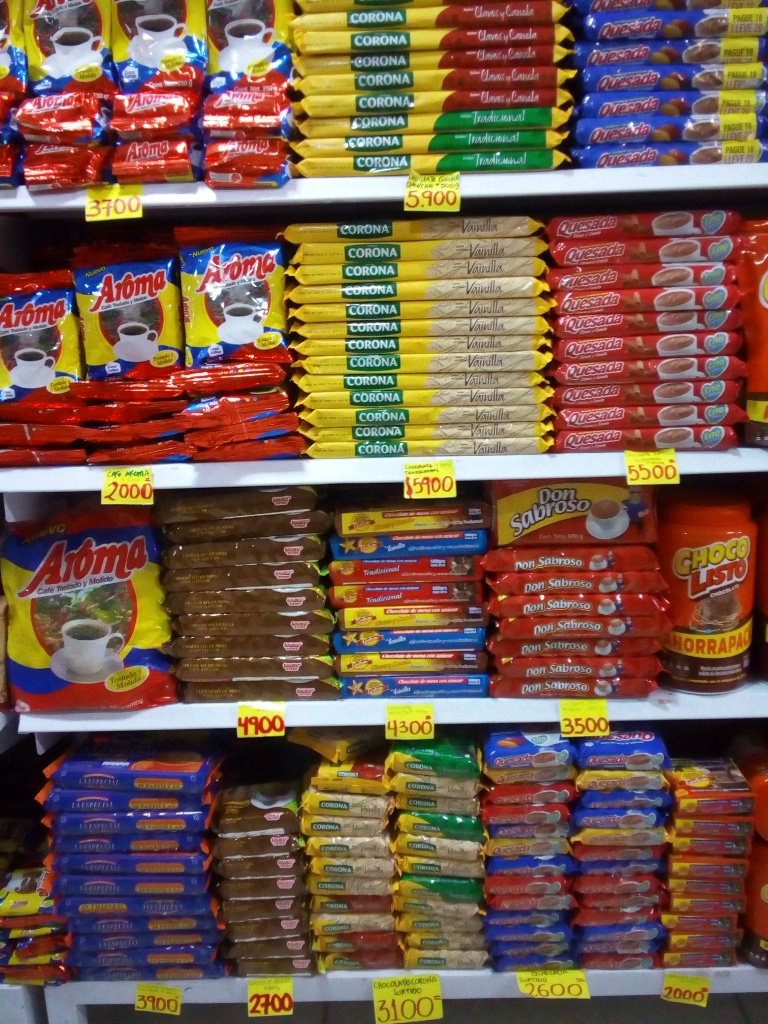COL0170103TRR00100: (660, 487, 755, 702)
